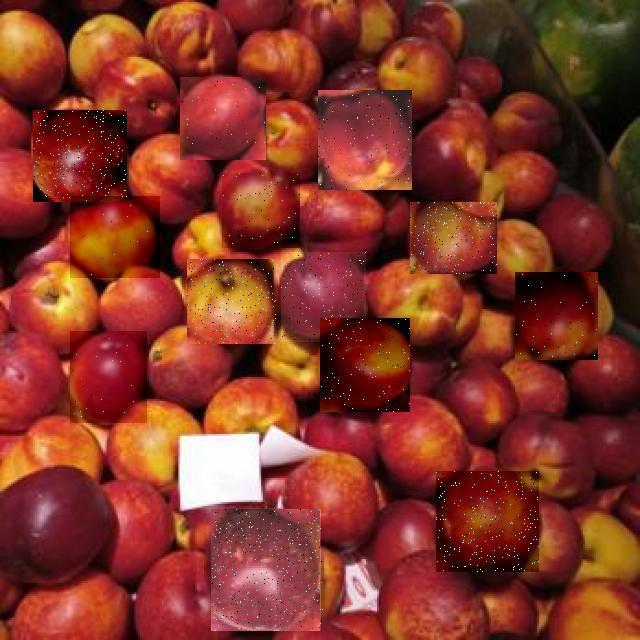Nectarine: (212, 509, 324, 631), (436, 471, 539, 572), (318, 90, 412, 190), (33, 111, 127, 203), (320, 318, 410, 412), (281, 252, 366, 342), (188, 259, 278, 344), (70, 196, 160, 278), (515, 273, 598, 361), (181, 77, 267, 160), (70, 331, 147, 423), (410, 202, 497, 274), (222, 173, 300, 248)
